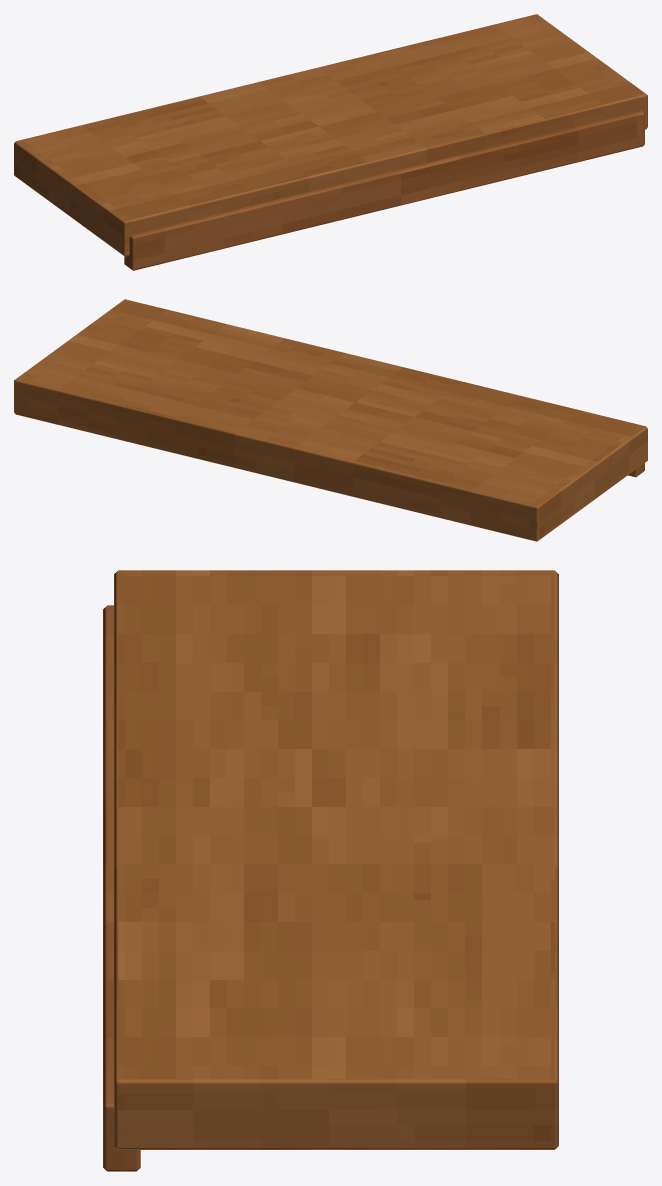
Rendered from Shelf-0.glb.
3 renders of one model, top to bottom at view 1: azimuth 30°, elevation 25°; view 2: azimuth 150°, elevation 25°; view 3: azimuth 270°, elevation 25°, orthographic. The views are drawn at different scales.
Visible parts, largest first — view 1: Shelf-0; view 2: Shelf-0; view 3: Shelf-0.
Part boxes in pixels (x1,y1,x2,y2): Shelf-0: (14, 14, 647, 270); Shelf-0: (14, 299, 647, 541); Shelf-0: (103, 570, 558, 1171).
Size of the model in its own units: 1.39 by 0.1245 by 0.5225.
2 materials, 2 textured.
